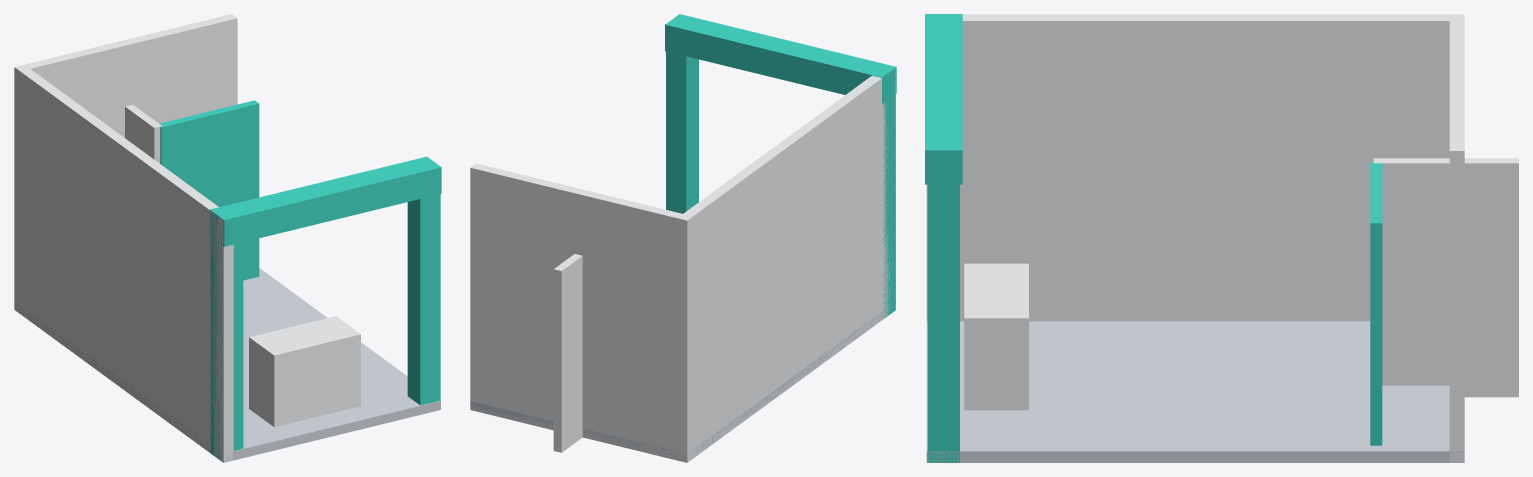
The picture shows the model from 3 angles, left to right: view 1: azimuth 30°, elevation 25°; view 2: azimuth 150°, elevation 25°; view 3: azimuth 270°, elevation 25°; orthographic projection. The views are drawn at different scales.
Parts seen in each view (by area): view 1: Exhibition Booth Concept; view 2: Exhibition Booth Concept; view 3: Exhibition Booth Concept.
Part boxes in pixels (box(x1,y1,x2,y2)): Exhibition Booth Concept: box(14, 14, 441, 462); Exhibition Booth Concept: box(470, 14, 896, 462); Exhibition Booth Concept: box(925, 14, 1518, 462).
Size of the model in its own units: 3 by 3.2 by 5.52.
